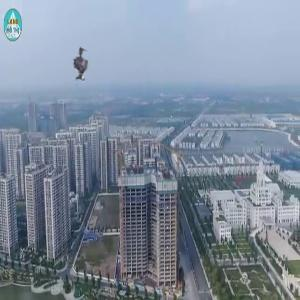drone: (60, 41, 110, 91)
